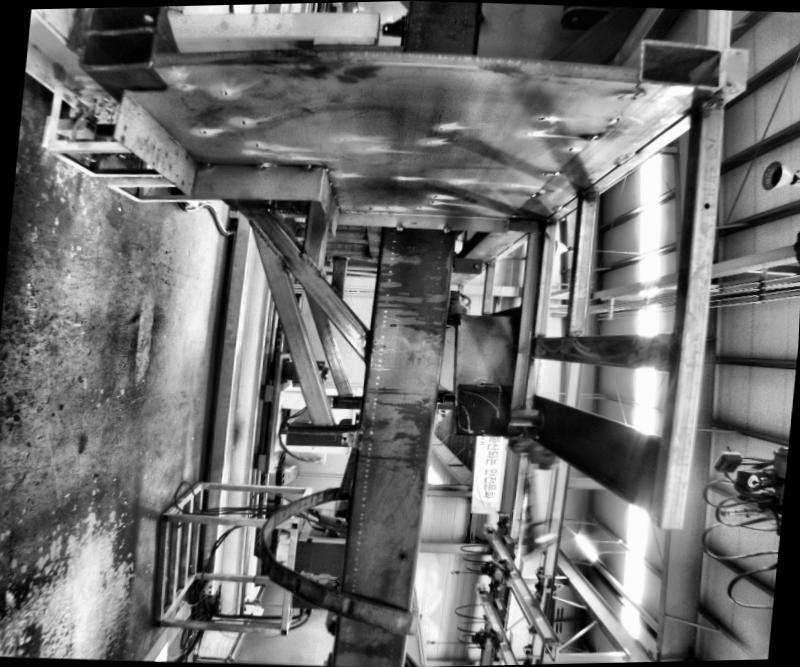hole: (702, 198, 714, 209), (400, 550, 406, 558), (630, 350, 635, 356)
welding: (242, 159, 268, 174), (198, 158, 218, 171), (432, 224, 450, 234), (388, 222, 400, 234), (298, 164, 316, 171)
